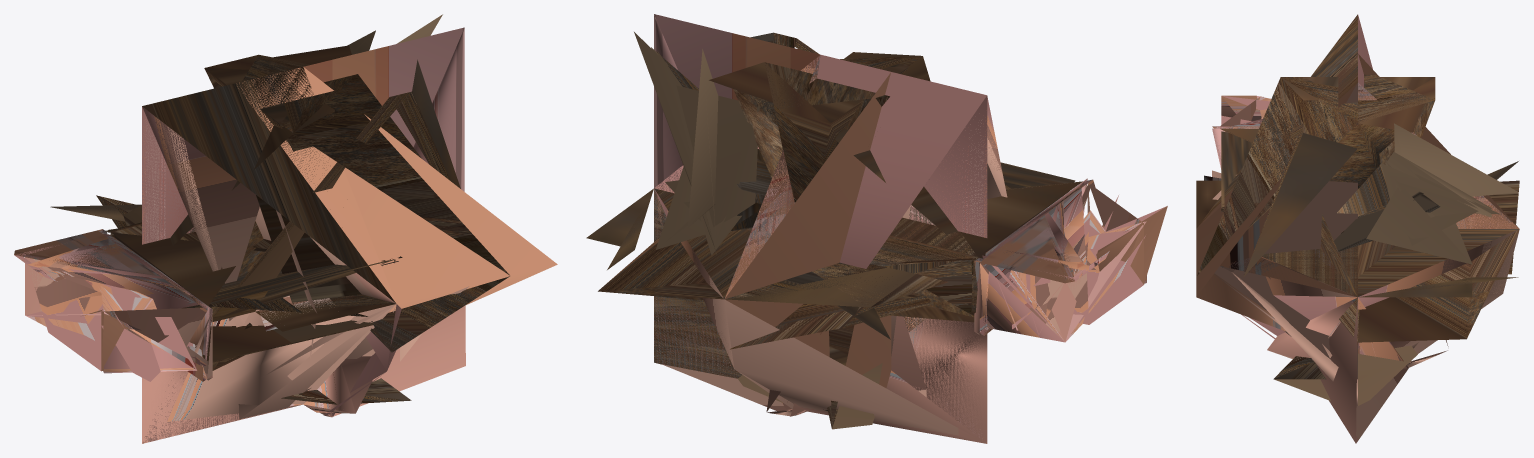
3 views of the same model, side by side, from view 1: azimuth 30°, elevation 25°; view 2: azimuth 150°, elevation 25°; view 3: azimuth 270°, elevation 25° (orthographic). The views are drawn at different scales.
Visible parts, largest first — view 1: Counter_low; view 2: Counter_low; view 3: Counter_low.
Boxes of the visible parts, x1,y1,x2,y2 form: Counter_low: (14,14,557,443); Counter_low: (586,14,1167,443); Counter_low: (1196,14,1519,443).
Bounding box in the file's own units: 266 × 200 × 200.
